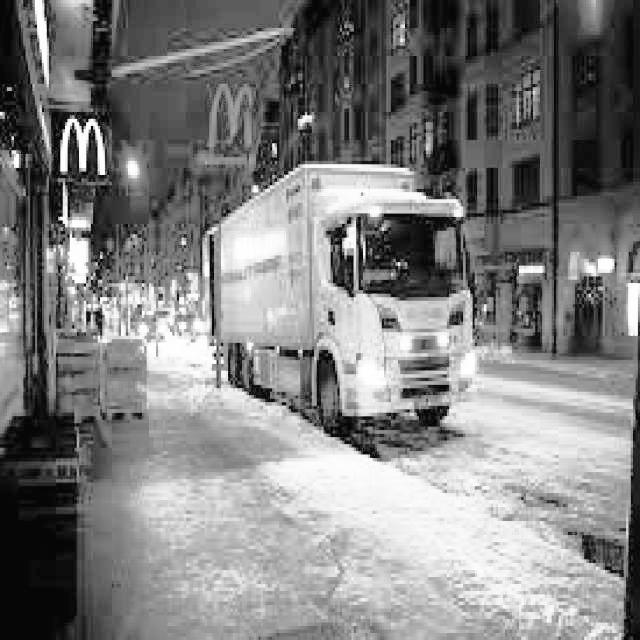Truck: (200, 161, 477, 434)
